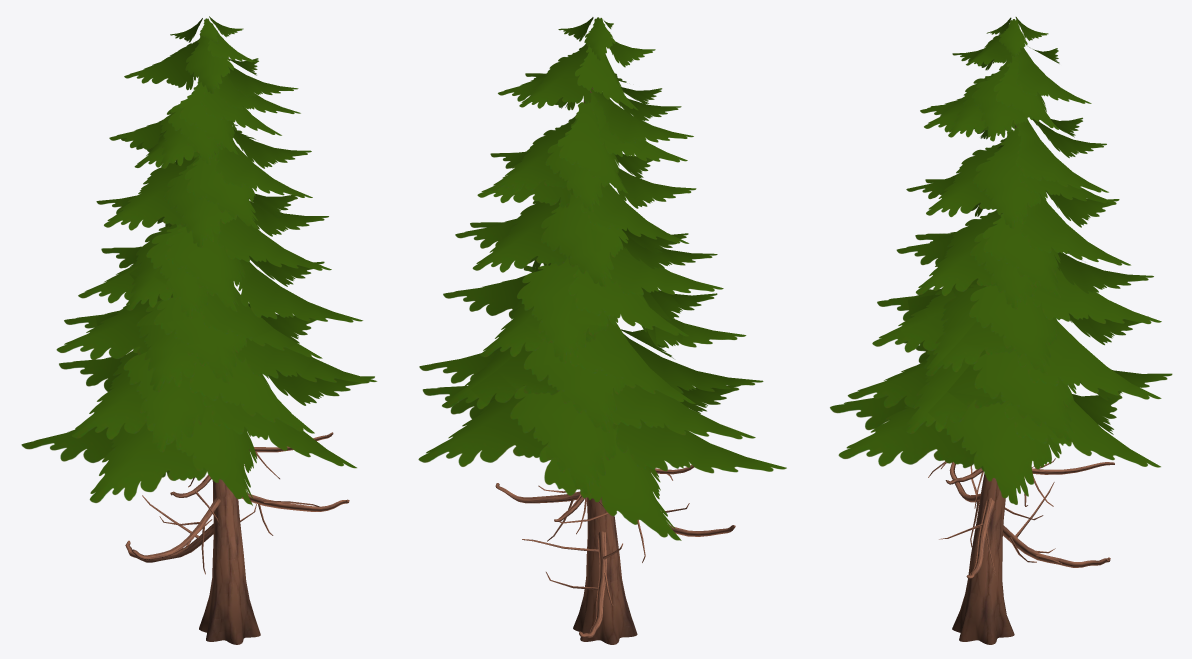
Rendered from pinetree.glb.
3 views of the same model, side by side, from view 1: azimuth 30°, elevation 25°; view 2: azimuth 150°, elevation 25°; view 3: azimuth 270°, elevation 25° (orthographic). The views are drawn at different scales.
Parts seen in each view (by area): view 1: Pine_4; view 2: Pine_4; view 3: Pine_4.
Part boxes in pixels (x1=…): Pine_4: x1=21, y1=16, x2=377, y2=644; Pine_4: x1=418, y1=17, x2=786, y2=644; Pine_4: x1=830, y1=17, x2=1172, y2=644.
Size of the model in its own units: 5.8 by 10.24 by 5.37.
2 materials, 2 textured.
